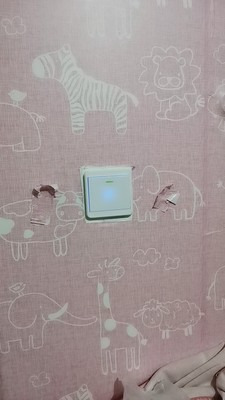switch: (88, 173, 134, 215)
